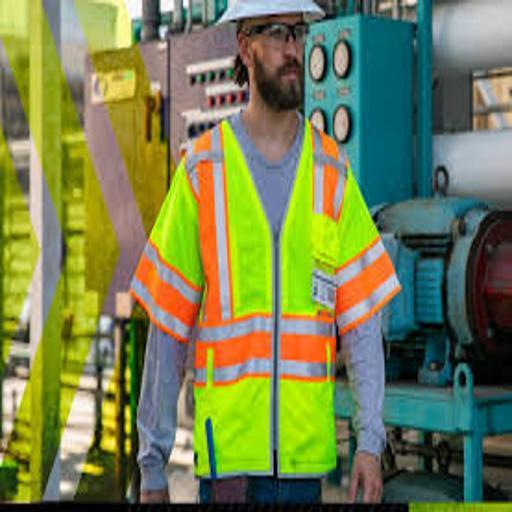Hard_hat: (215, 1, 341, 30)
Humans: (132, 18, 403, 512)
Vest: (137, 98, 406, 482)
Visor: (242, 23, 323, 53)
